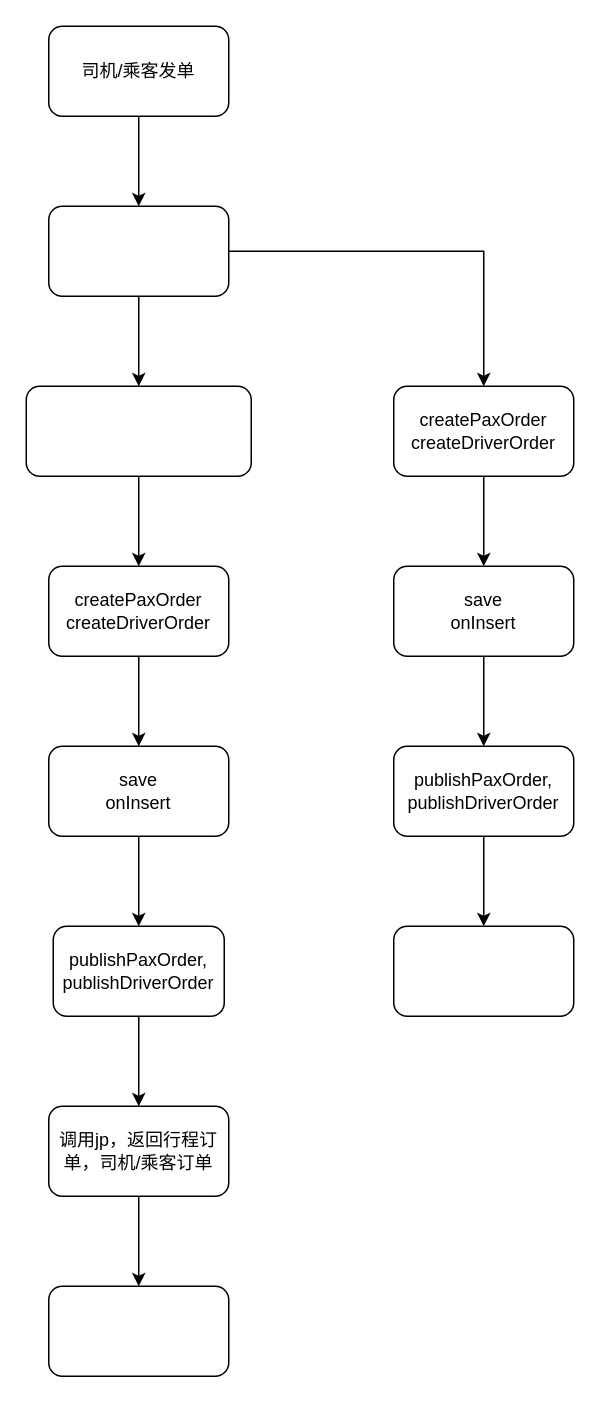
This 600x1403 diagram has some shape labels left out. Here are the shapes that lost their labels. From the top down, the box of each, then its label:
(47, 205, 229, 296): 调用策略
(25, 385, 251, 476): doFIiter(琛哥加入的GeoFencenCheckHandler)
(392, 925, 574, 1016): 调用jp，返回行程订单，司机/乘客订单 并返回错误码
(47, 1285, 229, 1376): 韬哥加入的东莞，绍兴临时过滤代码，返回错误码
